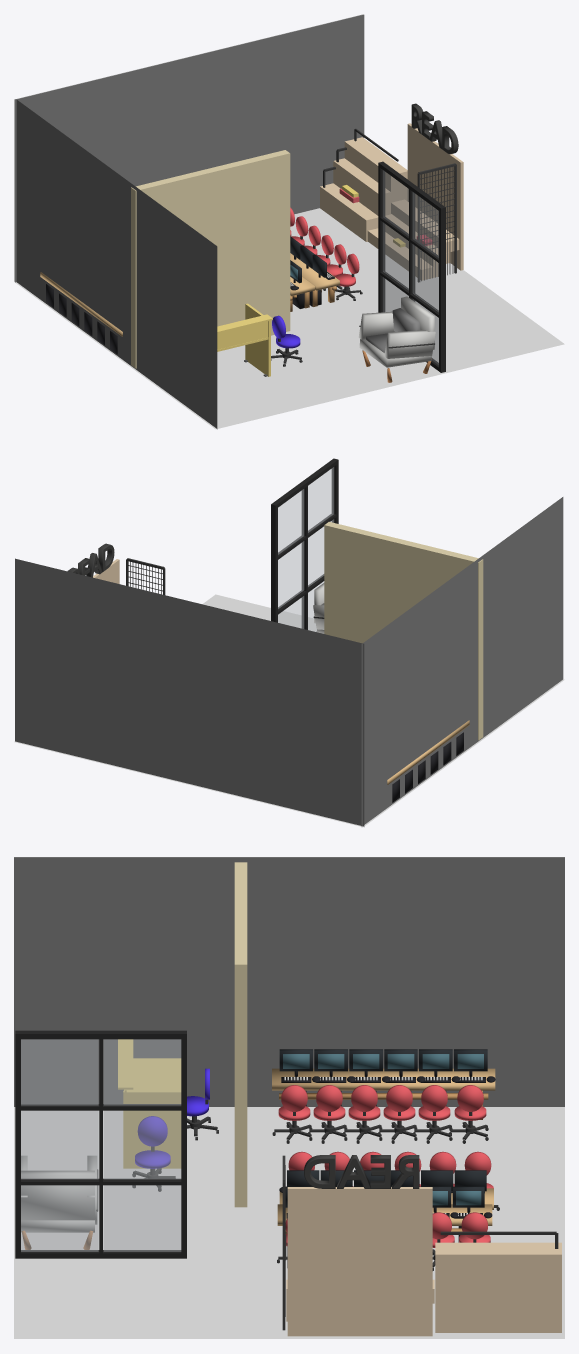
File: cgi.glb
3 renders of one model, top to bottom at view 1: azimuth 30°, elevation 25°; view 2: azimuth 150°, elevation 25°; view 3: azimuth 270°, elevation 25°, orthographic. The views are drawn at different scales.
Visible parts, largest first — view 1: Plane.003, Plane.004, Plane, Plane.001, Frame_Top, Wood_Back_Wall, Step_3_Top, Chair_Leg_1, Backrest_Cushion.001, LAB_Monitor_Body.005, LAB_Monitor_Body.002, LAB_READ (+4 smaller); view 2: Plane.003, Plane.004, Plane.001, Frame_Top, Plane, LAB_Monitor_Body.002, Wood_Back_Wall, LAB_READ, Chair_Leg_1; view 3: Plane.004, Plane, Frame_Top, Wood_Back_Wall, Step_3_Top, LAB_Monitor_Body.002, Backrest_Cushion.002, Chair_Leg_1, Plane.001, Left_Outer_Panel, LAB_READ, LAB_Monitor_Body.001 (+7 smaller).
Boxes of the visible parts, x1,y1,x2,y2 form: Plane.003: [15, 14, 364, 282]; Plane.004: [15, 99, 217, 429]; Plane: [14, 14, 564, 429]; Plane.001: [131, 150, 290, 368]; Frame_Top: [378, 161, 445, 372]; Wood_Back_Wall: [367, 123, 463, 282]; Step_3_Top: [320, 128, 407, 241]; Chair_Leg_1: [358, 296, 435, 382]; Backrest_Cushion.001: [290, 207, 362, 300]; LAB_Monitor_Body.005: [290, 236, 339, 306]; LAB_Monitor_Body.002: [40, 272, 122, 354]; LAB_READ: [411, 103, 458, 154]; Plane.003: [15, 558, 364, 826]; Plane.004: [361, 497, 563, 826]; Plane.001: [324, 521, 483, 740]; Frame_Top: [271, 458, 338, 632]; Plane: [14, 594, 564, 827]; LAB_Monitor_Body.002: [387, 720, 469, 802]; Wood_Back_Wall: [93, 558, 165, 594]; LAB_READ: [67, 543, 114, 577]; Chair_Leg_1: [313, 583, 324, 633]; Plane.004: [14, 857, 564, 1106]; Plane: [14, 857, 564, 1338]; Frame_Top: [15, 1030, 186, 1258]; Wood_Back_Wall: [282, 1155, 434, 1336]; Step_3_Top: [435, 1231, 561, 1332]; LAB_Monitor_Body.002: [272, 1049, 495, 1119]; Backrest_Cushion.002: [272, 1085, 488, 1143]; Chair_Leg_1: [21, 1155, 98, 1249]; Plane.001: [234, 862, 247, 1207]; Left_Outer_Panel: [123, 1090, 181, 1168]; LAB_READ: [304, 1155, 419, 1188]; LAB_Monitor_Body.001: [279, 1170, 493, 1209].
Size of the model in its own units: 2 by 1.01 by 2.
